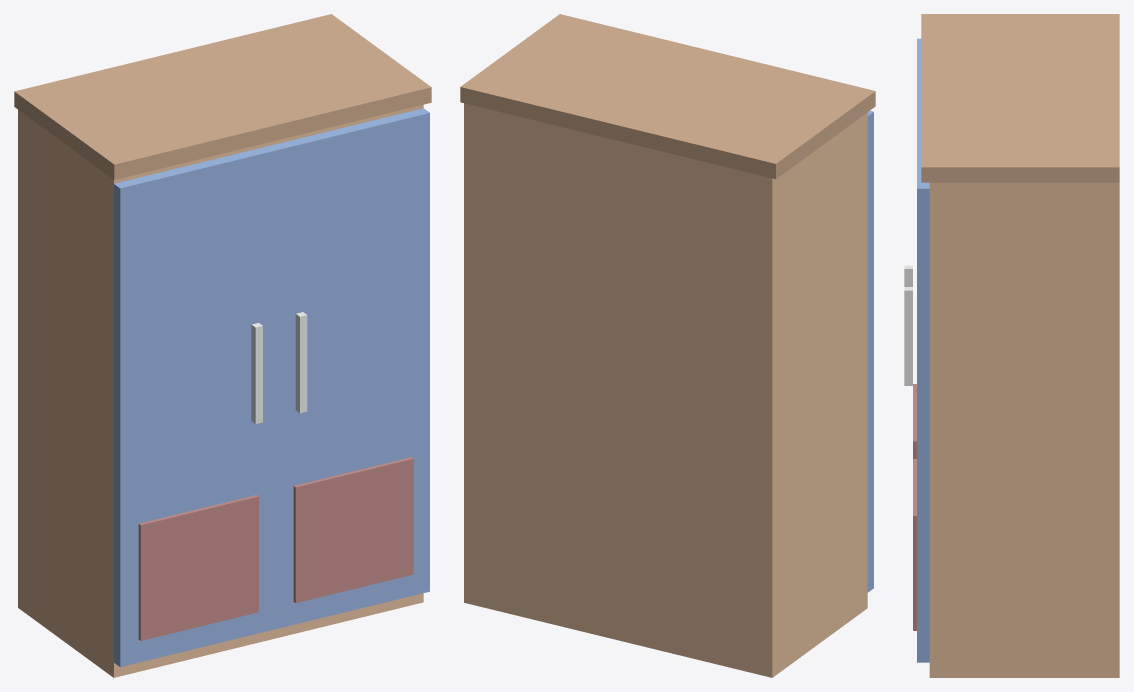
File: kidsWardrobe.glb
The picture shows the model from 3 angles, left to right: view 1: azimuth 30°, elevation 25°; view 2: azimuth 150°, elevation 25°; view 3: azimuth 270°, elevation 25°; orthographic projection.
Visible parts, largest first — view 1: kidsWardrobe, anim:doorL, anim:doorR; view 2: kidsWardrobe, anim:doorL; view 3: kidsWardrobe, anim:doorR, anim:doorL.
Part boxes in pixels (<box>): kidsWardrobe: <box>14,14,431,677</box>; anim:doorL: <box>114,146,275,667</box>; anim:doorR: <box>269,108,429,629</box>; kidsWardrobe: <box>460,14,875,677</box>; anim:doorL: <box>867,110,873,592</box>; kidsWardrobe: <box>921,14,1119,677</box>; anim:doorR: <box>904,113,929,662</box>; anim:doorL: <box>904,38,921,458</box>.
Bounding box in the file's own units: 0.43 × 0.67 × 0.255.
